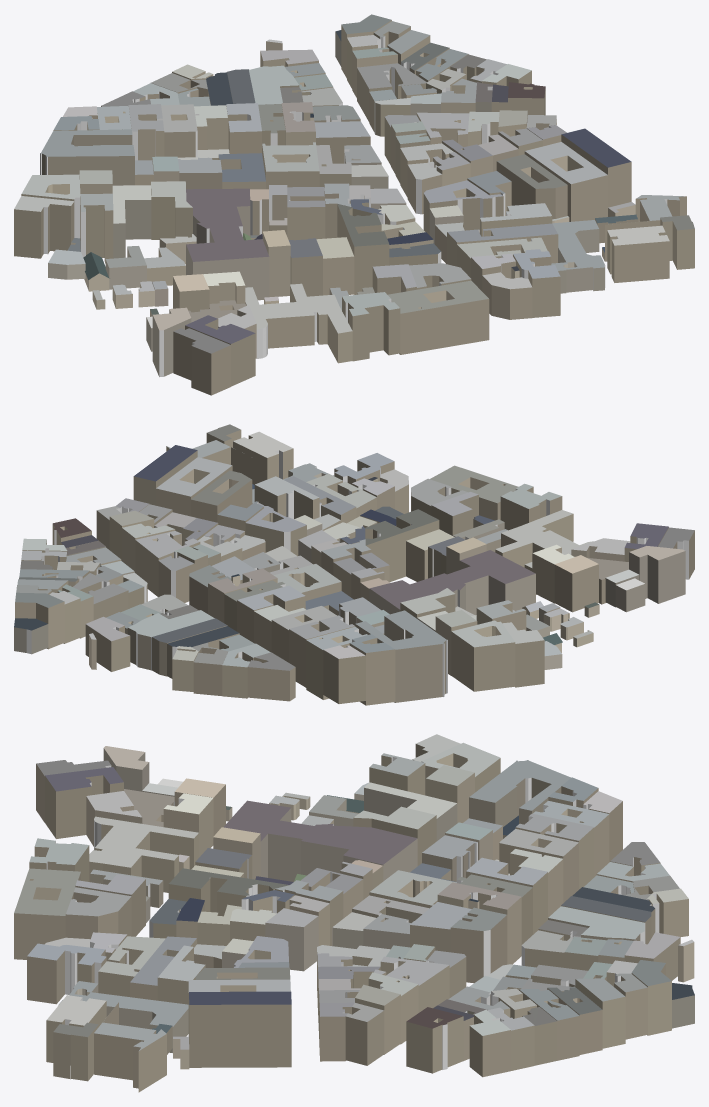
The picture shows the model from 3 angles, top to bottom: view 1: azimuth 30°, elevation 25°; view 2: azimuth 150°, elevation 25°; view 3: azimuth 270°, elevation 25°; orthographic projection. The views are drawn at different scales.
Visible parts, largest first — view 1: tuile; view 2: tuile; view 3: tuile.
Part boxes in pixels (x1,y1,x2,y2): tuile: (14, 14, 694, 395); tuile: (14, 424, 694, 705); tuile: (14, 734, 694, 1092).
Size of the model in its own units: 269 by 34.22 by 262.
